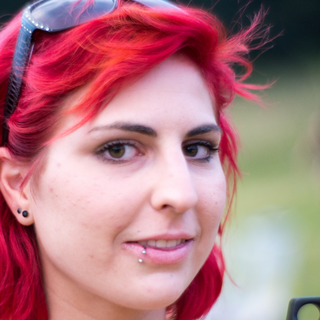eye: (93, 138, 146, 164), (179, 135, 220, 164)
